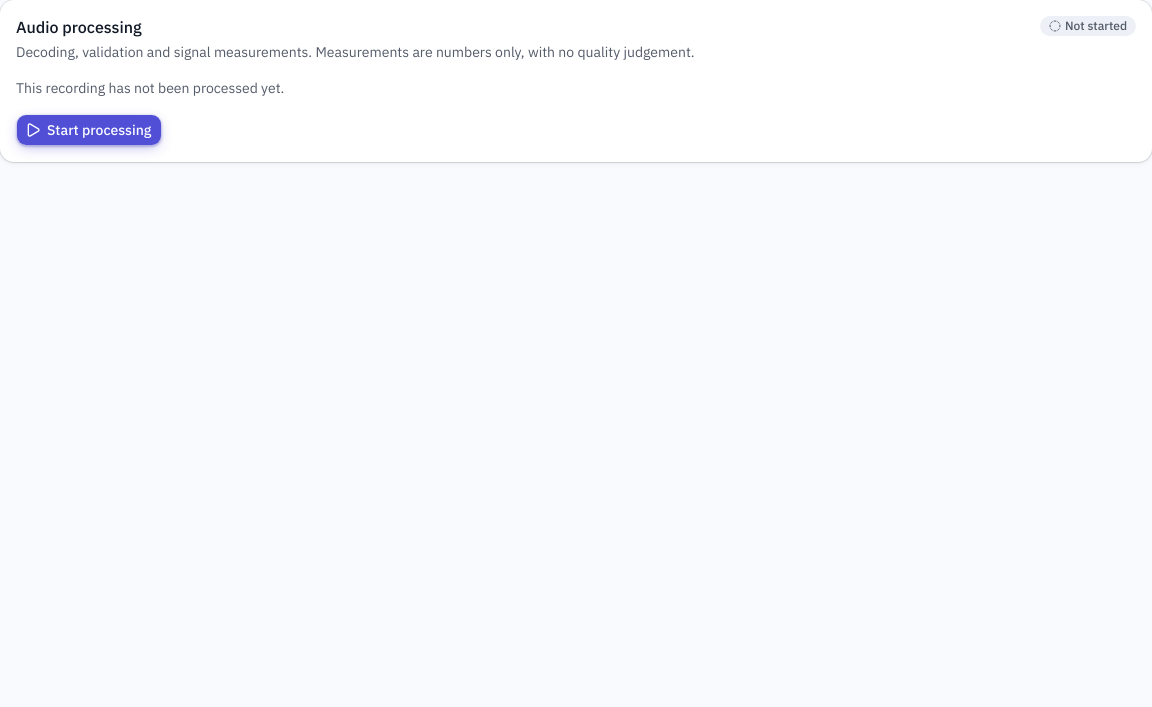
Scenario: ProcessingCard actions › accepts 200 for an already completed result
The image size is (1152, 707).
Click the button "Start processing": (89, 130) [16,114,162,146]
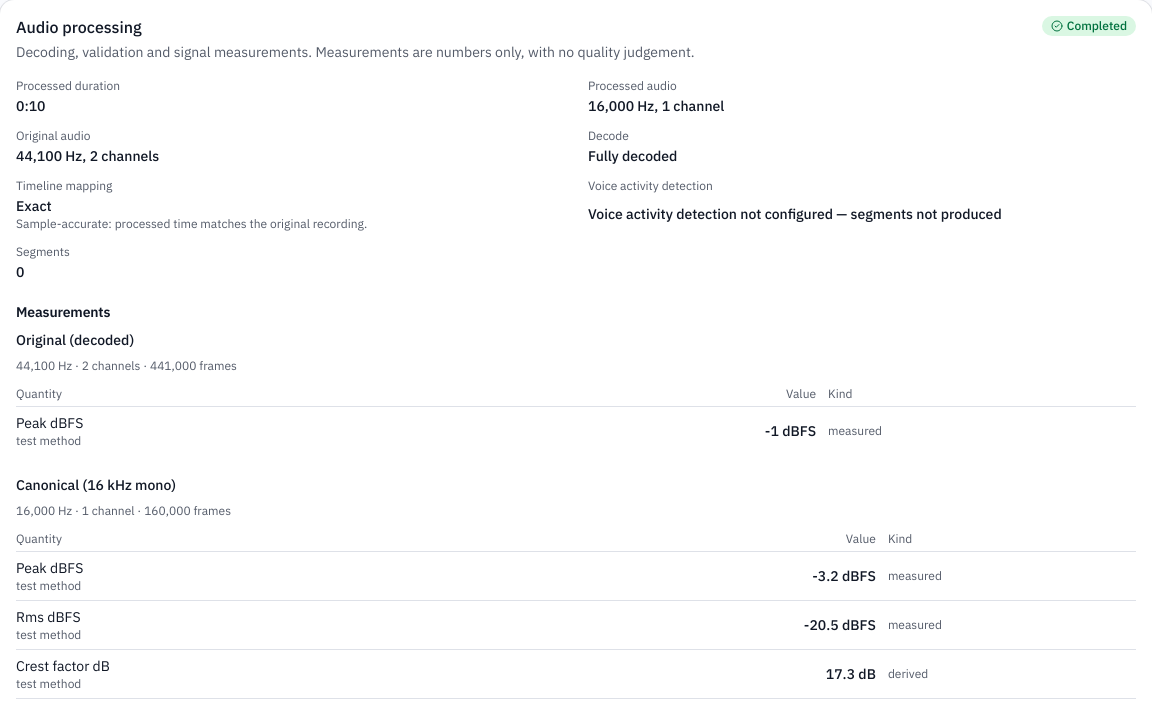
Now the text "Completed" is shown, box [1042,16,1136,36]
